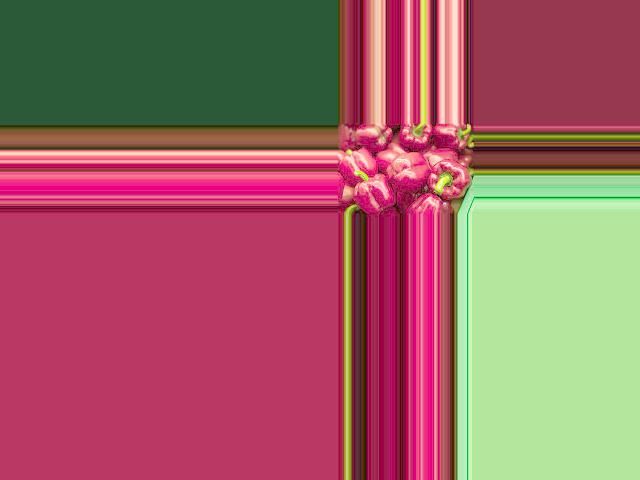bell_pepper: (434, 123, 471, 149)
